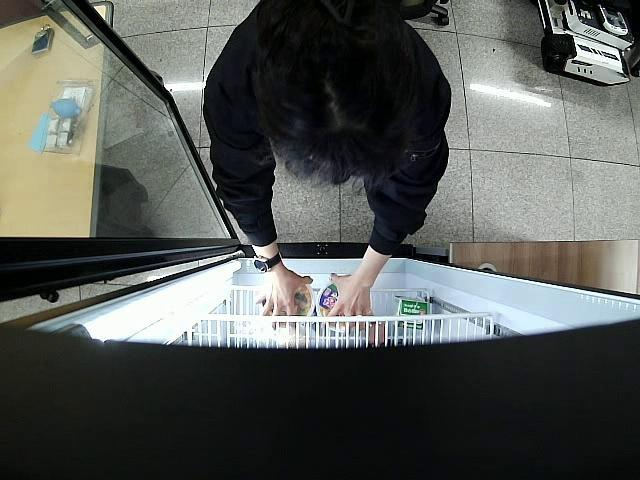09_yukGaeJang: (260, 284, 314, 332), (318, 284, 359, 334)
